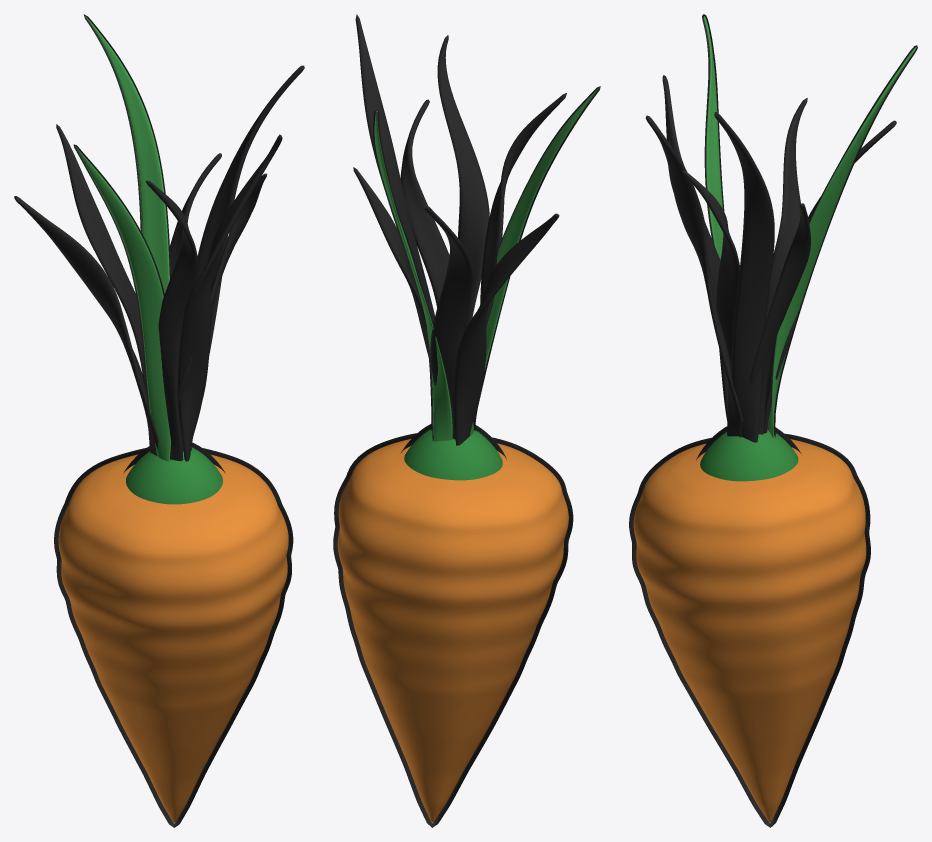
The model's file is carrot.fbx.
3 renders of one model, left to right at view 1: azimuth 30°, elevation 25°; view 2: azimuth 150°, elevation 25°; view 3: azimuth 270°, elevation 25°, orthographic.
Parts seen in each view (by area): view 1: Carrot_Root, Leaf_05, Leaf_07, Leaf_02, Leaf_06, Carrot_Crown, Leaf_04, Leaf_03, Leaf_00, Leaf_08, Leaf_01; view 2: Carrot_Root, Leaf_04, Leaf_07, Leaf_03, Carrot_Crown, Leaf_02, Leaf_05, Leaf_00, Leaf_08, Leaf_06, Leaf_01; view 3: Carrot_Root, Leaf_00, Leaf_02, Leaf_07, Carrot_Crown, Leaf_01, Leaf_04, Leaf_05, Leaf_08, Leaf_06, Leaf_03.
Boxes of the visible parts, bbox=[...] form: Carrot_Root: bbox=[54, 447, 293, 827]; Leaf_05: bbox=[73, 144, 172, 461]; Leaf_07: bbox=[177, 134, 282, 461]; Leaf_02: bbox=[83, 14, 171, 293]; Leaf_06: bbox=[145, 180, 198, 461]; Carrot_Crown: bbox=[123, 442, 225, 504]; Leaf_04: bbox=[14, 196, 158, 455]; Leaf_03: bbox=[56, 124, 146, 389]; Leaf_00: bbox=[192, 65, 304, 356]; Leaf_08: bbox=[177, 173, 267, 451]; Leaf_01: bbox=[170, 153, 221, 390]; Carrot_Root: bbox=[333, 433, 573, 827]; Leaf_04: bbox=[453, 213, 559, 445]; Leaf_07: bbox=[437, 35, 489, 331]; Leaf_03: bbox=[424, 205, 473, 439]; Carrot_Crown: bbox=[400, 424, 506, 480]; Leaf_02: bbox=[372, 110, 454, 441]; Leaf_05: bbox=[470, 86, 600, 435]; Leaf_00: bbox=[355, 14, 434, 430]; Leaf_08: bbox=[400, 99, 449, 307]; Leaf_06: bbox=[480, 93, 566, 326]; Leaf_01: bbox=[353, 167, 428, 356]; Carrot_Root: bbox=[629, 433, 870, 827]; Leaf_00: bbox=[714, 112, 774, 442]; Leaf_02: bbox=[767, 45, 917, 438]; Leaf_07: bbox=[645, 115, 743, 436]; Carrot_Crown: bbox=[696, 426, 801, 481]; Leaf_01: bbox=[749, 203, 810, 434]; Leaf_04: bbox=[765, 98, 807, 321]; Leaf_05: bbox=[702, 14, 724, 259]; Leaf_08: bbox=[681, 170, 741, 437]; Leaf_06: bbox=[662, 75, 728, 420]; Leaf_03: bbox=[764, 120, 896, 433].
Bounding box in the file's own units: 164 × 490 × 166.
